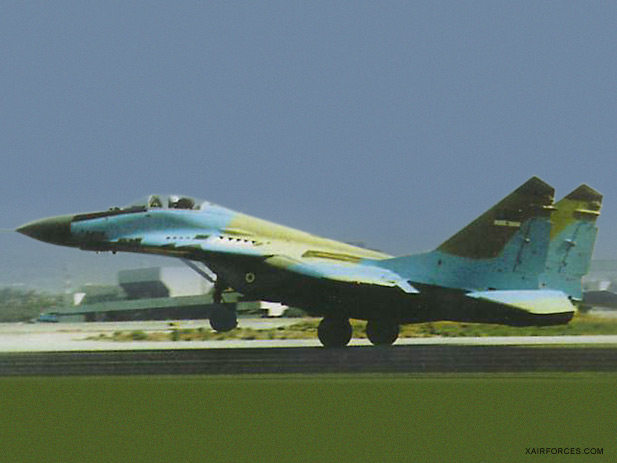Mig-29: (1, 136, 597, 355)
